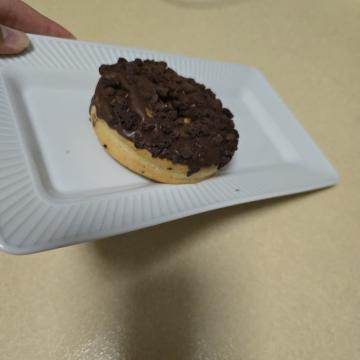doughnut: (46, 113, 192, 279)
